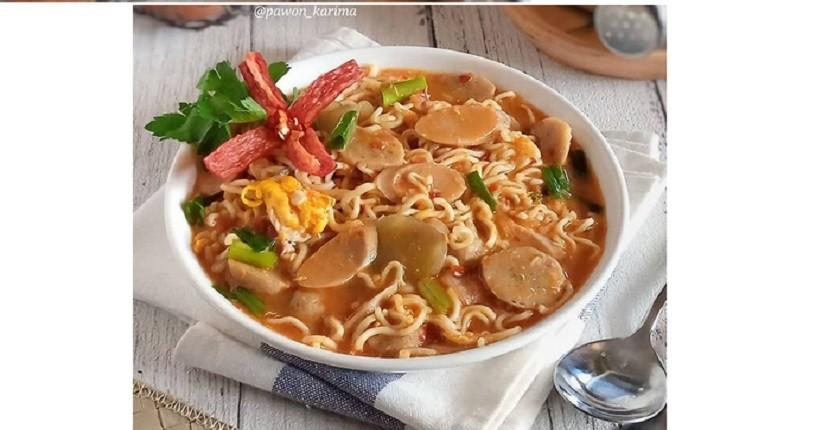seblak: (180, 66, 604, 357)
